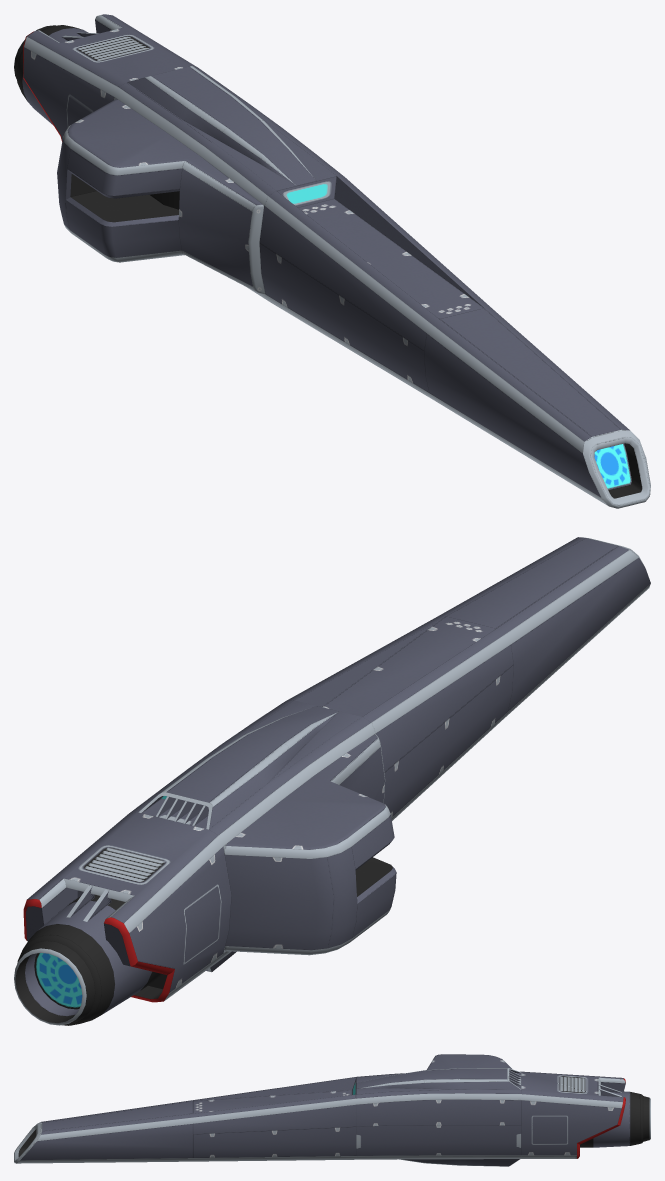
Rendered from Reactor_04_Left.FBX.
3 views of the same model, one above another, from view 1: azimuth 30°, elevation 25°; view 2: azimuth 150°, elevation 25°; view 3: azimuth 270°, elevation 25° (orthographic). The views are drawn at different scales.
Parts seen in each view (by area): view 1: Reactor_04_Left; view 2: Reactor_04_Left; view 3: Reactor_04_Left.
Boxes of the visible parts, box(x1,y1,x2,y2) form: Reactor_04_Left: box(14, 14, 650, 508); Reactor_04_Left: box(14, 537, 650, 1025); Reactor_04_Left: box(14, 1054, 650, 1166).
Size of the model in its own units: 4.24 by 3.2 by 21.19.
1 material, 1 textured.
